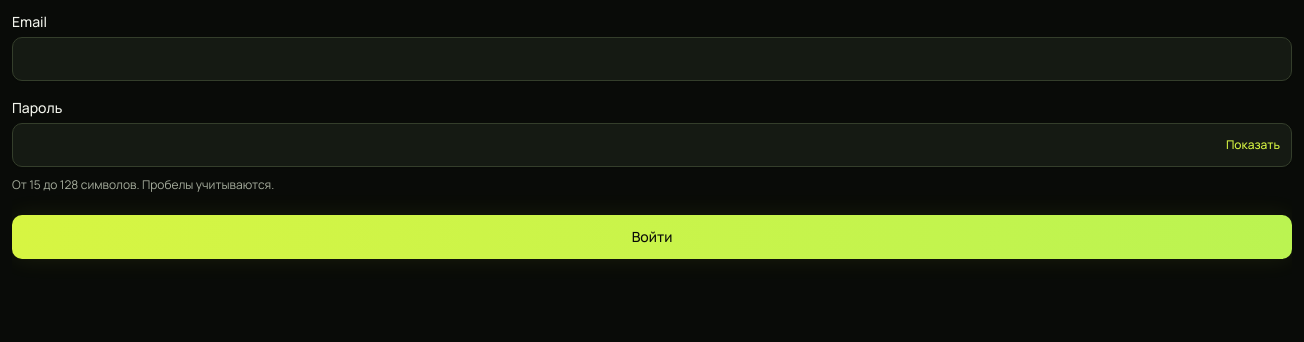
it: auth forms › shows server error 400 and enables retry
This screenshot has width=1304, height=342.
Type "a@b.com" into the field labelled "Email".
click(652, 59); type("a@b.com")  # box [12, 37, 1292, 81]
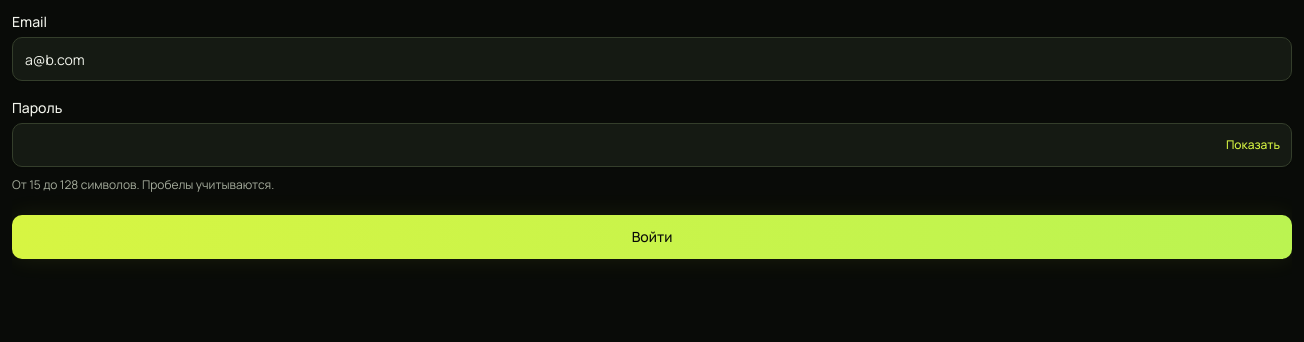
Type "my test password 123" into the password field labelled "Пароль".
click(652, 145); type("my test password 123")  # box [12, 123, 1292, 167]
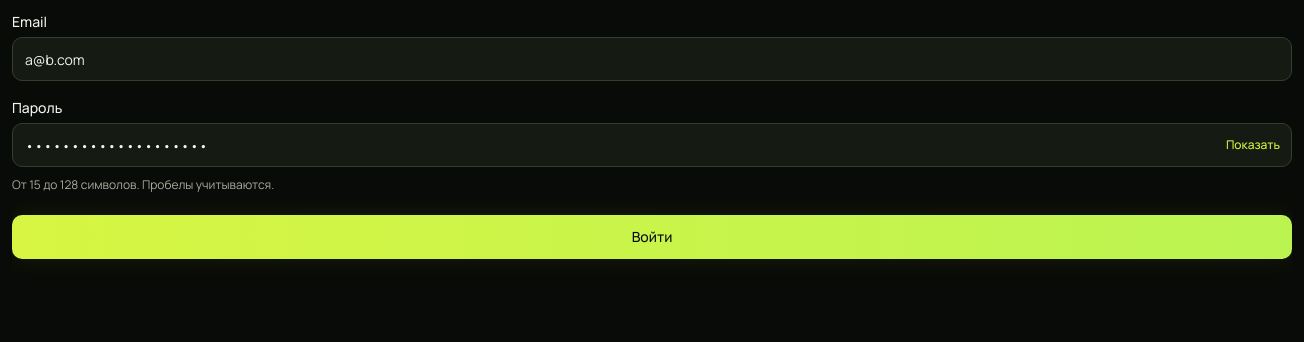
Click the button "Войти".
click(652, 236)  # box [12, 214, 1292, 258]
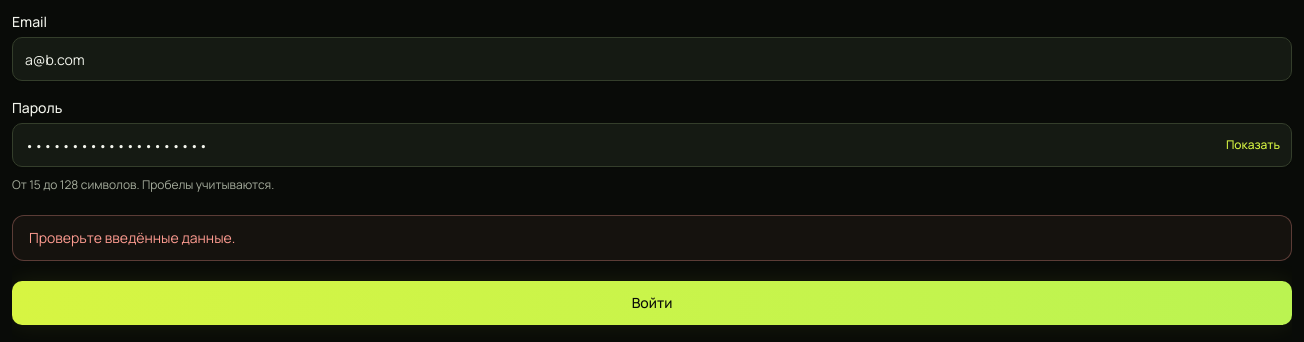
Expected: the button "Войти" is enabled, [12, 280, 1292, 324]
Result: the message "Проверьте введённые данные." is shown at [12, 214, 1292, 260]
